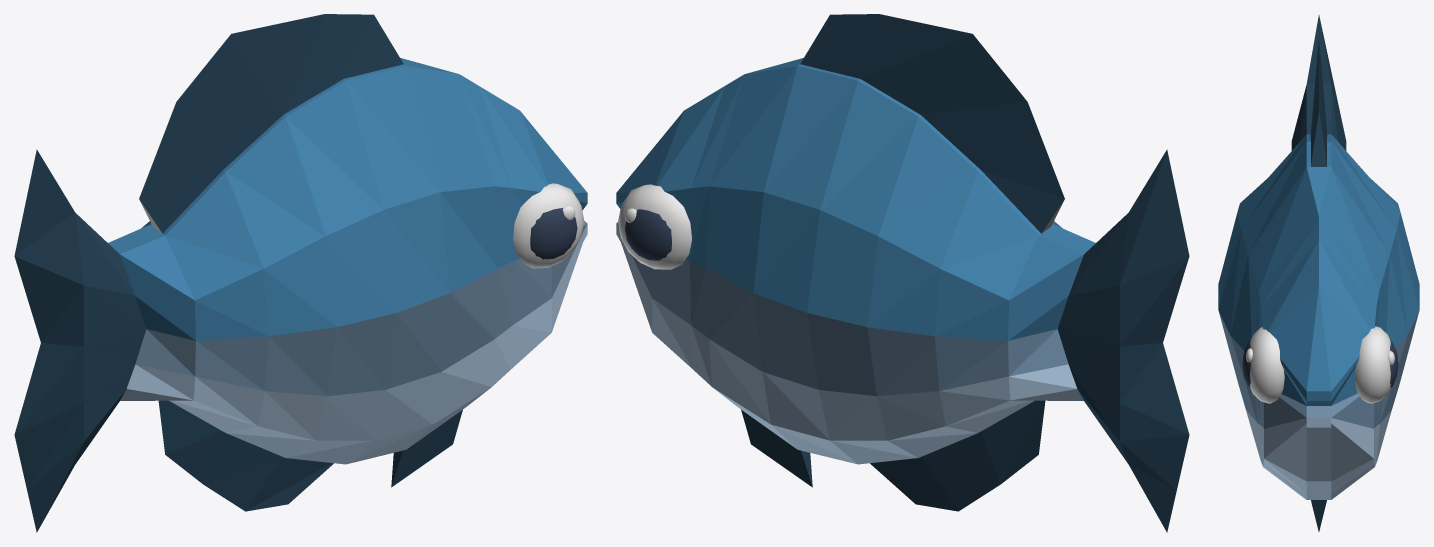
Rendered from bluegill.fbx.
The picture shows the model from 3 angles, left to right: view 1: azimuth 30°, elevation 25°; view 2: azimuth 150°, elevation 25°; view 3: azimuth 270°, elevation 25°; orthographic projection. The views are drawn at different scales.
Visible parts, largest first — view 1: pCube1, pCube2, pCube3; view 2: pCube1, EYE1_pCube3; view 3: pCube1, EYE1_pCube3, pCube2, pCube3.
Boxes of the visible parts, x1,y1,x2,y2 form: pCube1: [14, 14, 587, 532]; pCube2: [513, 183, 584, 268]; pCube3: [530, 208, 577, 259]; pCube1: [616, 14, 1189, 532]; EYE1_pCube3: [618, 184, 691, 269]; pCube1: [1218, 15, 1419, 531]; EYE1_pCube3: [1354, 326, 1398, 403]; pCube2: [1250, 327, 1284, 403]; pCube3: [1242, 340, 1250, 387].
Bounding box in the file's own units: 1.04 × 0.8664 × 0.3707.
